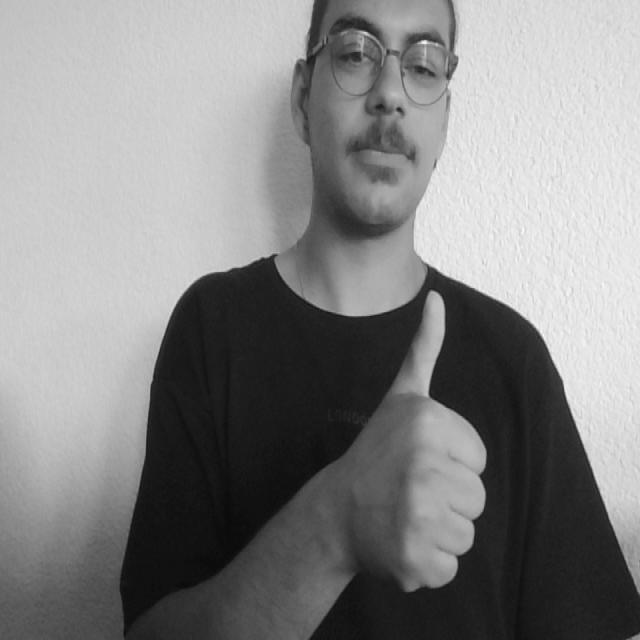Tamam: (326, 286, 498, 606)
